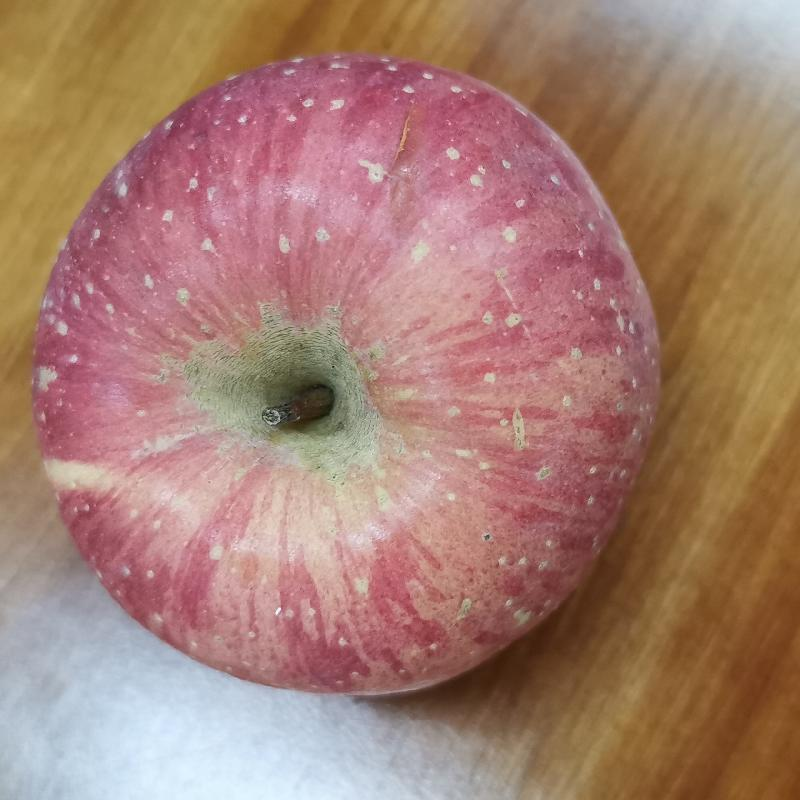apples: (31, 51, 664, 701)
